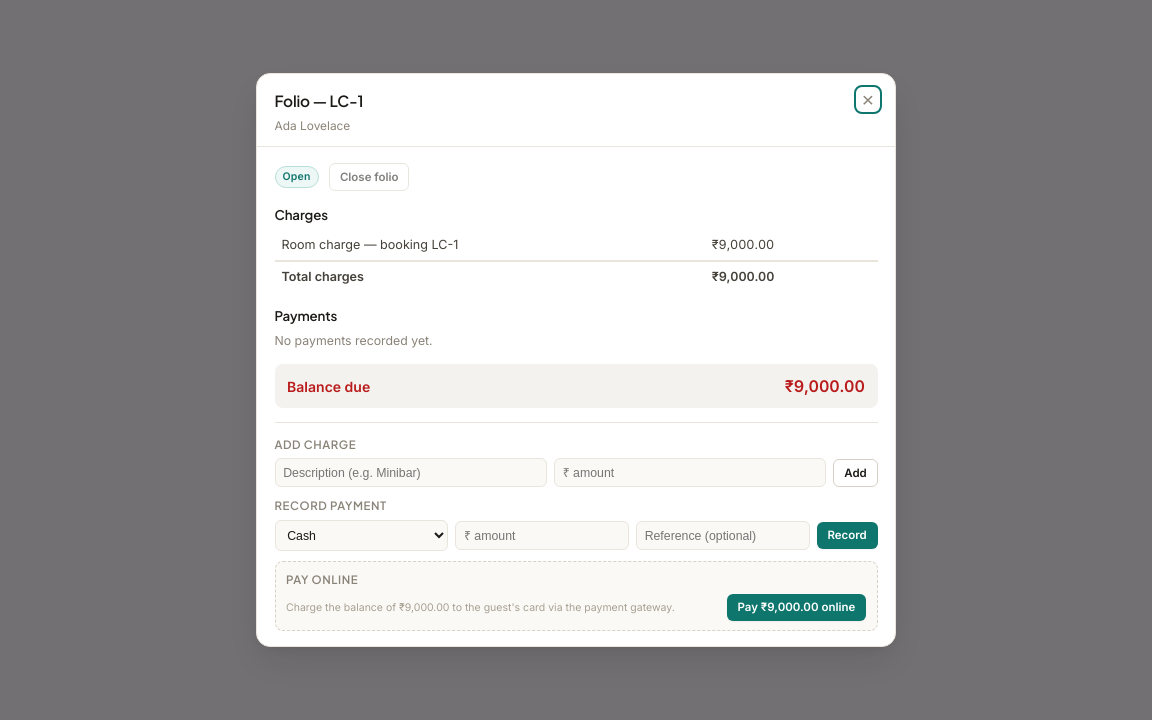
Scenario: FolioDialog › settles the balance online through the payment-gateway seam
expect the text "Room charge — booking LC-1" is shown: met, box [274,230,705,261]
Click the button "Pay ₹9,000.00 online": (796, 607) [727,594,866,621]
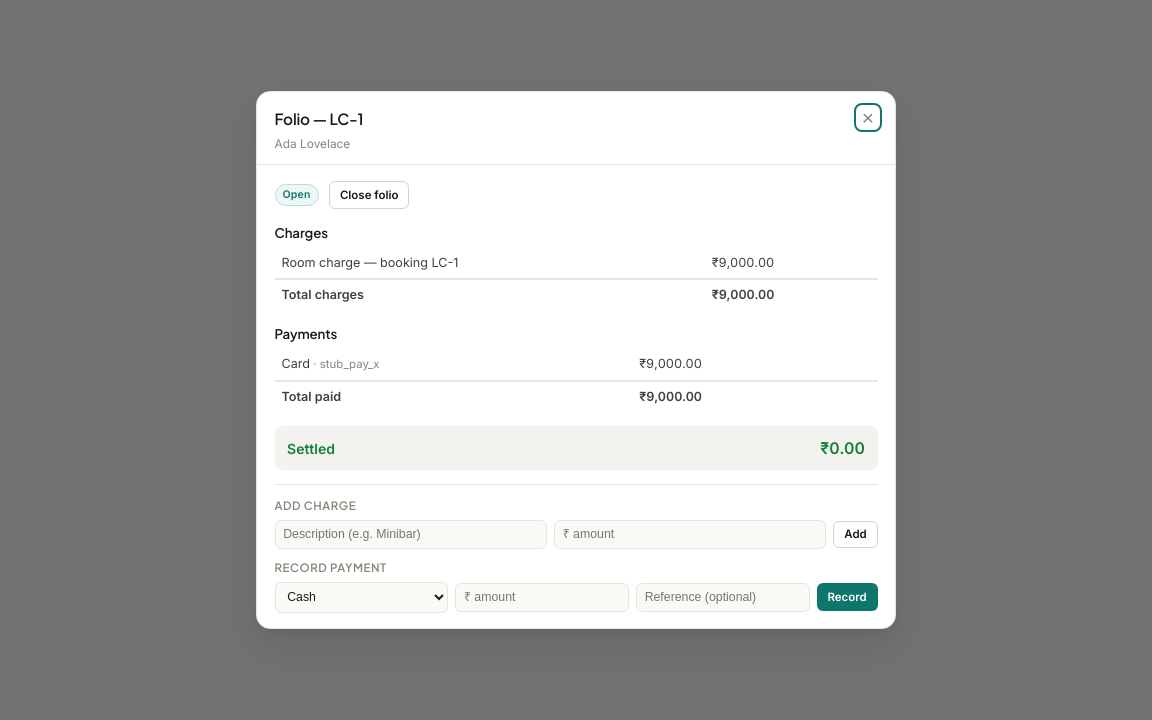
expect the text "Settled" is shown: met, box [287,438,335,459]
